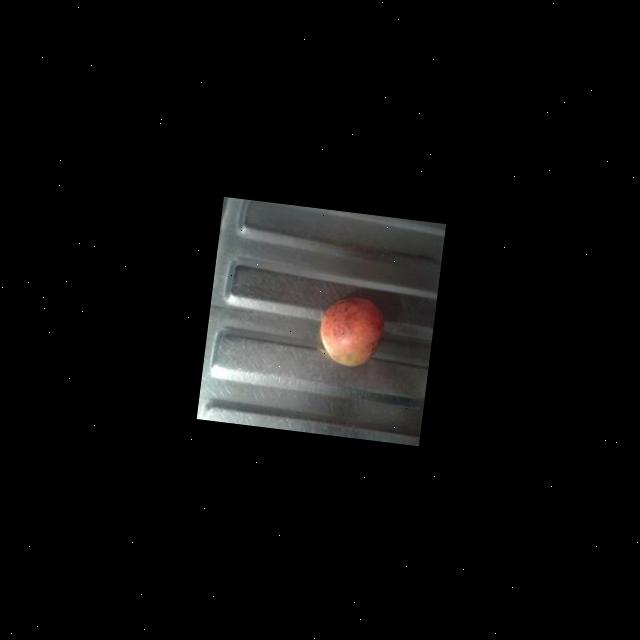Mango: (314, 290, 386, 368)
